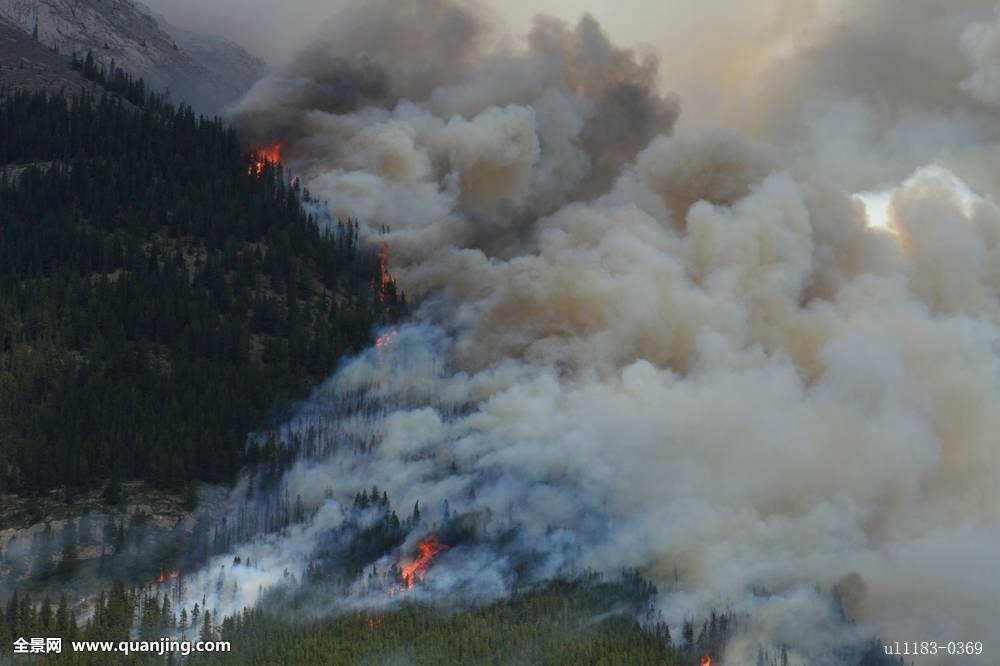fire: (395, 530, 446, 590), (245, 136, 285, 176), (372, 245, 396, 301), (372, 326, 397, 349), (154, 568, 180, 585), (697, 647, 716, 665)
